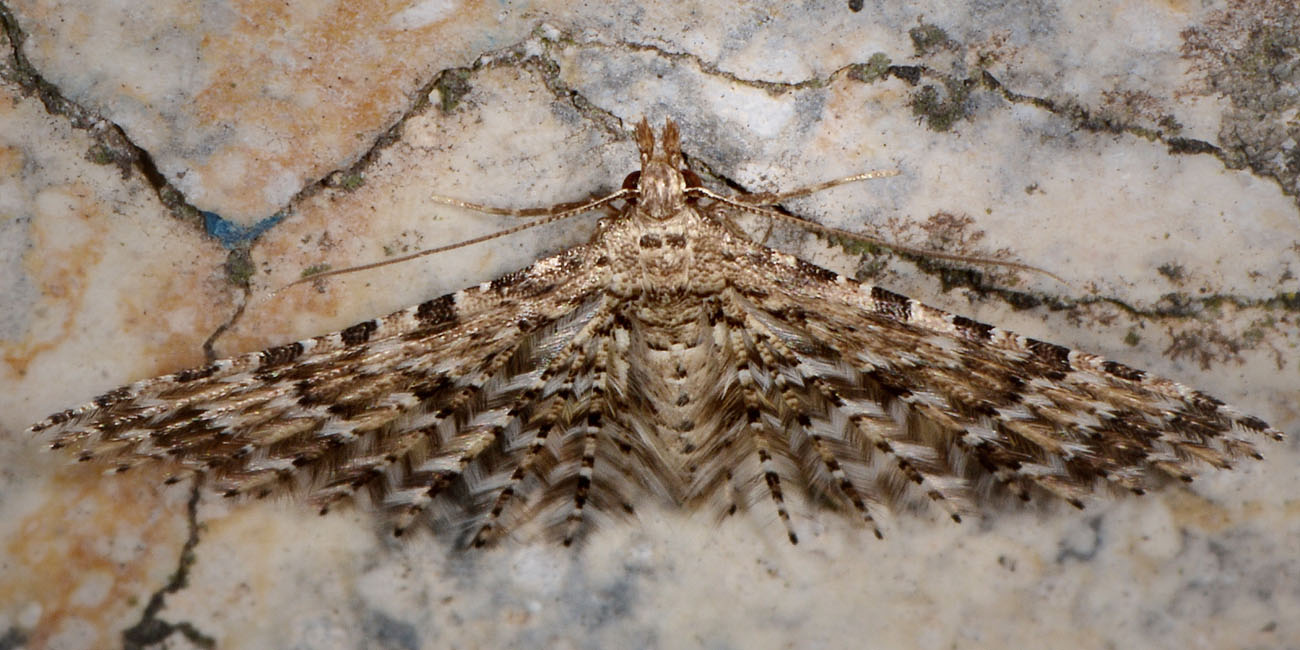Alucitidae: (28, 108, 1300, 556)
moth: (26, 106, 1298, 554)
